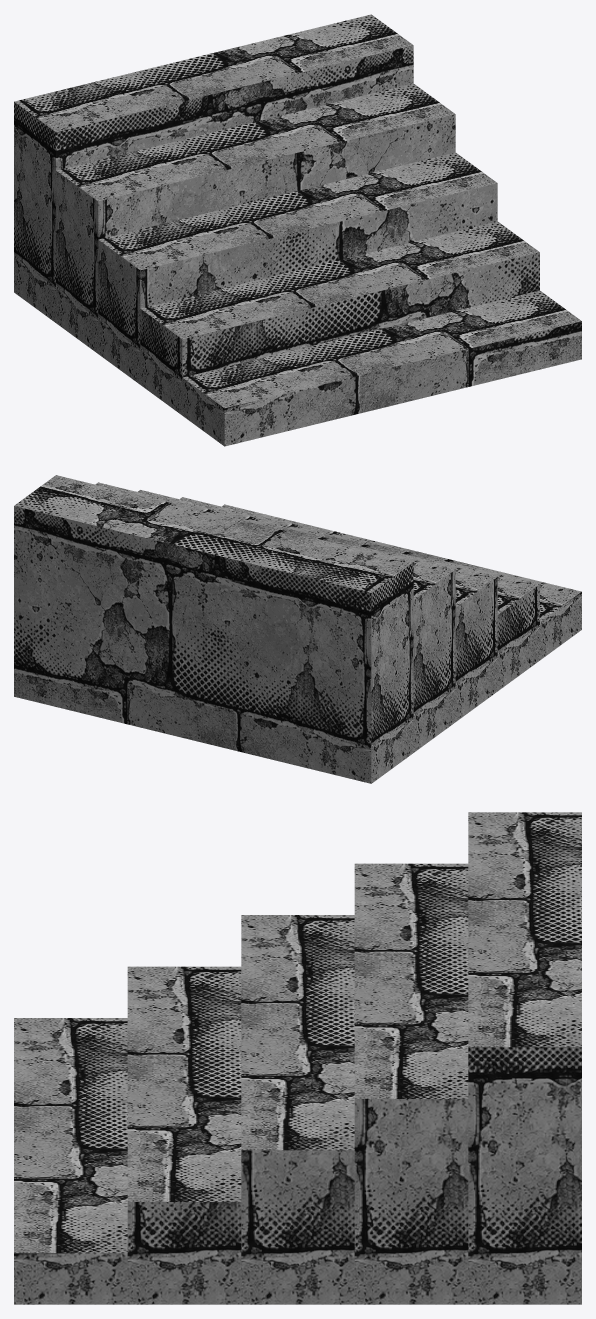
The model's file is stairs.glb.
The picture shows the model from 3 angles, top to bottom: view 1: azimuth 30°, elevation 25°; view 2: azimuth 150°, elevation 25°; view 3: azimuth 270°, elevation 25°; orthographic projection. The views are drawn at different scales.
Parts seen in each view (by area): view 1: Tread 4, Tread 3, Tread 2, Tread 1, Tread 0; view 2: Tread 4, Tread 3, Tread 2, Tread 1, Tread 0; view 3: Tread 4, Tread 3, Tread 2, Tread 1, Tread 0.
Boxes of the visible parts, x1,y1,x2,y2 form: Tread 4: (14,14,413,322); Tread 3: (56,83,455,353); Tread 2: (98,152,497,384); Tread 1: (140,221,539,415); Tread 0: (182,290,581,446); Tread 4: (14,475,413,783); Tread 3: (95,482,455,752); Tread 2: (137,490,497,721); Tread 1: (180,497,539,690); Tread 0: (222,504,581,660); Tread 4: (468,812,581,1304); Tread 3: (354,863,468,1304); Tread 2: (241,915,354,1304); Tread 1: (127,966,241,1304); Tread 0: (14,1018,127,1304).
Bounding box in the file's own units: 0.98 × 0.5 × 1.
2 materials, 1 textured.
